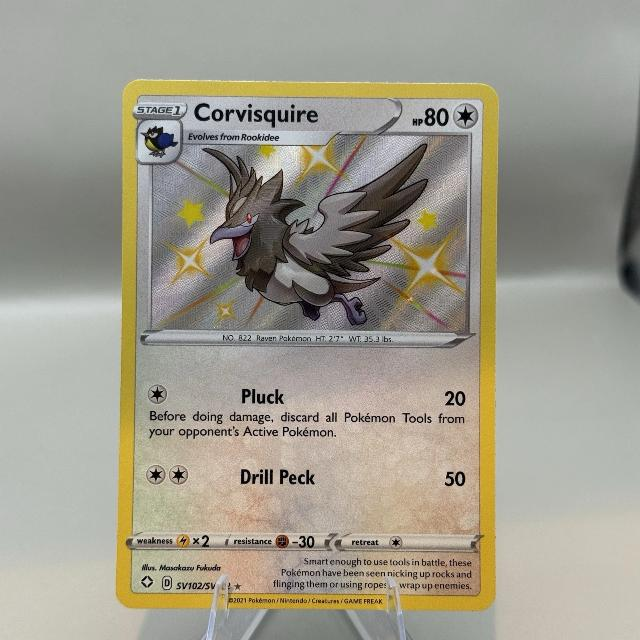Card: (109, 70, 506, 616)
Name: (188, 97, 327, 132)
